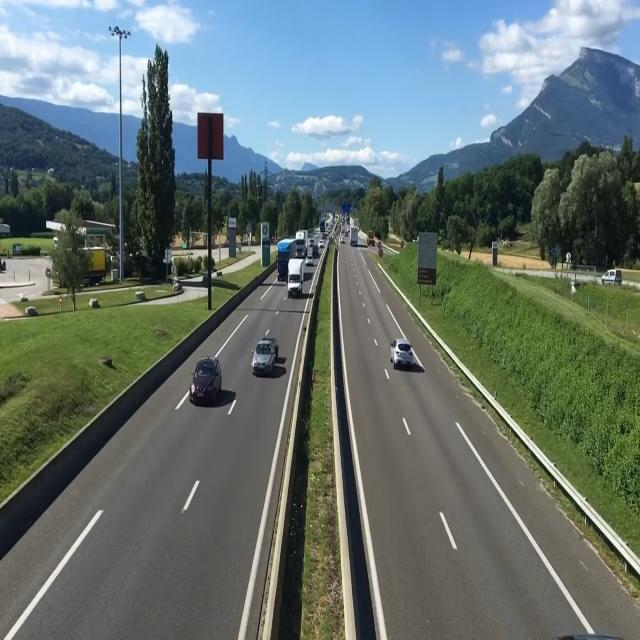car: (189, 348, 230, 412), (251, 332, 280, 378), (391, 336, 422, 374), (288, 256, 304, 304)
truck: (275, 237, 287, 281), (295, 230, 306, 256), (350, 224, 360, 247), (366, 230, 375, 248)
